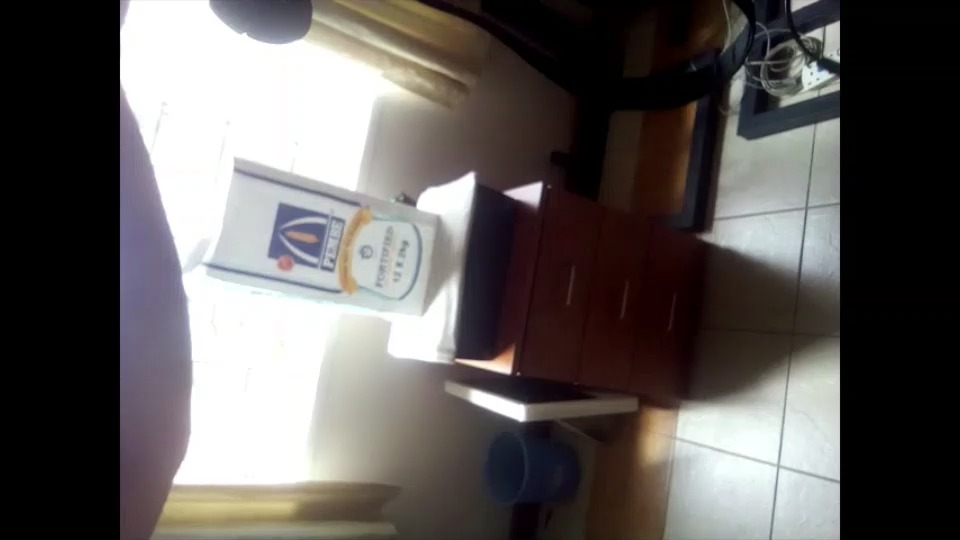wheat_flour_blue_label: (196, 148, 437, 312)
